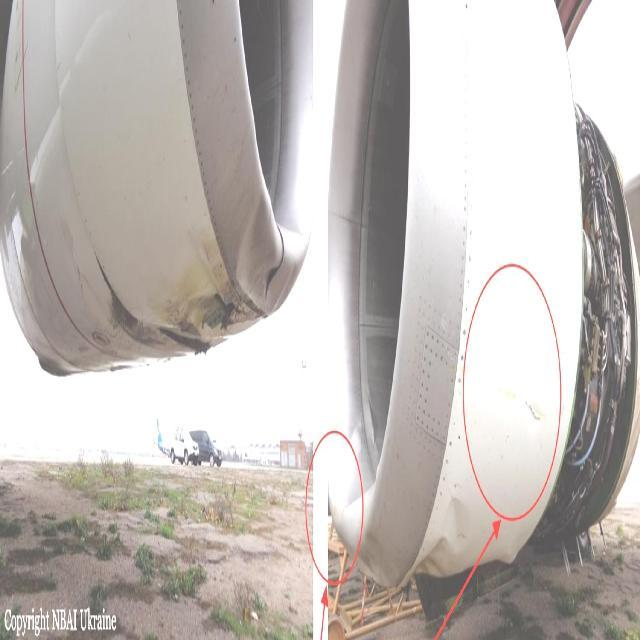crack: (520, 393, 548, 436)
dent: (407, 480, 474, 592)
